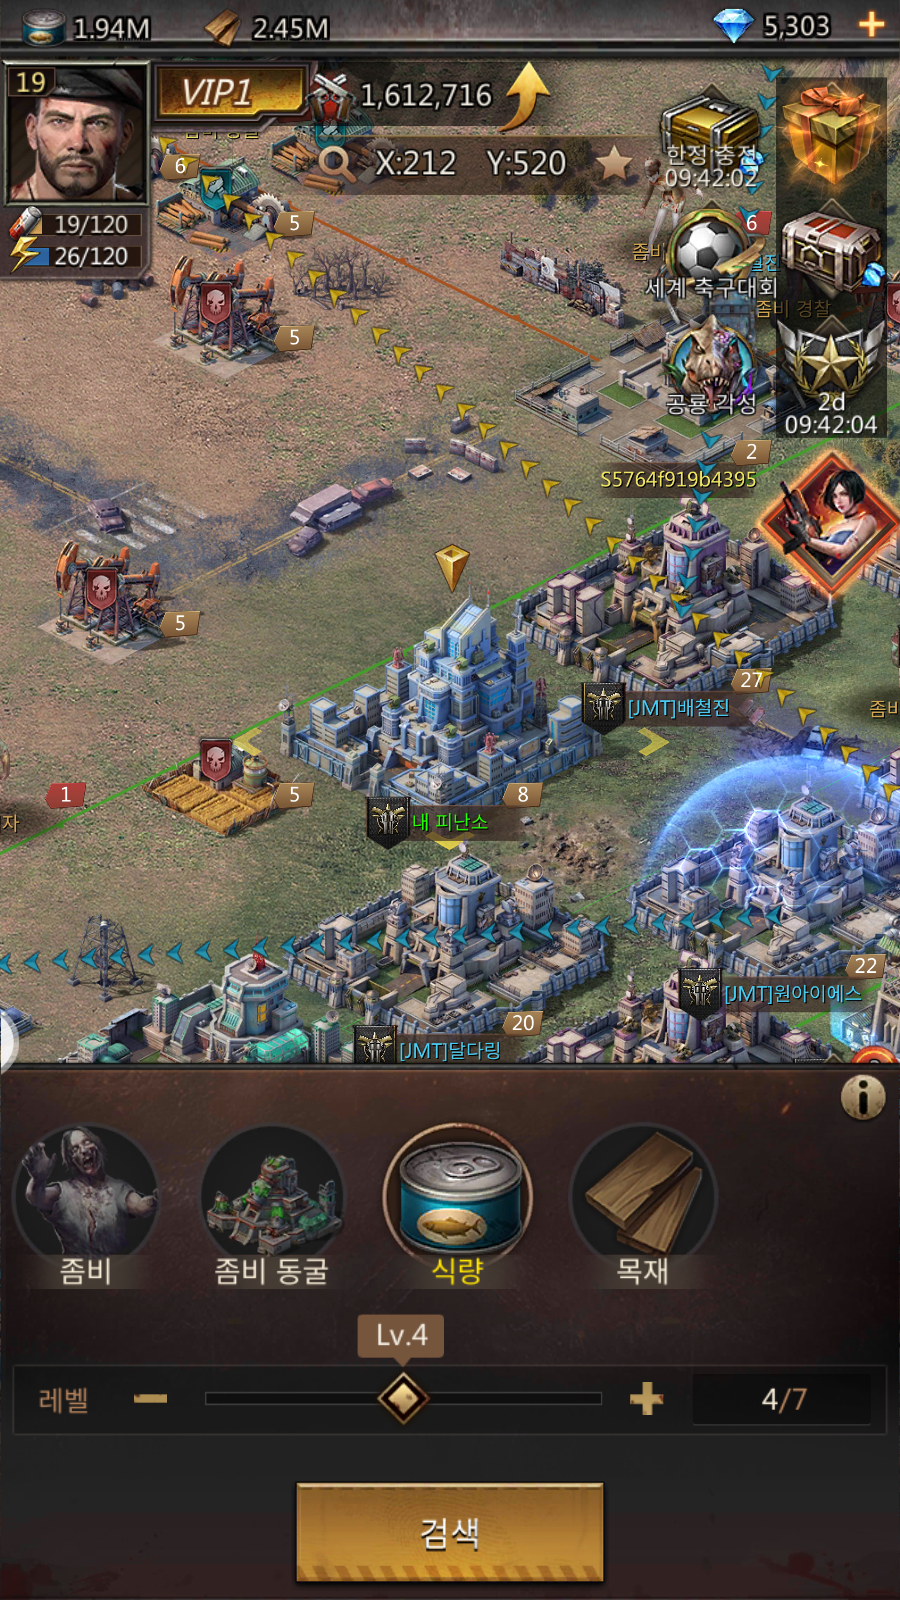rss_food_in_panel: (385, 1124, 531, 1288)
rss_lv4: (358, 1315, 446, 1357)
rss_minus_in_panel: (119, 1374, 180, 1419)
rss_plus_in_panel: (620, 1374, 673, 1424)
rss_search_in_panel: (293, 1485, 605, 1580)
rss_wood_in_panel: (568, 1113, 722, 1300)
